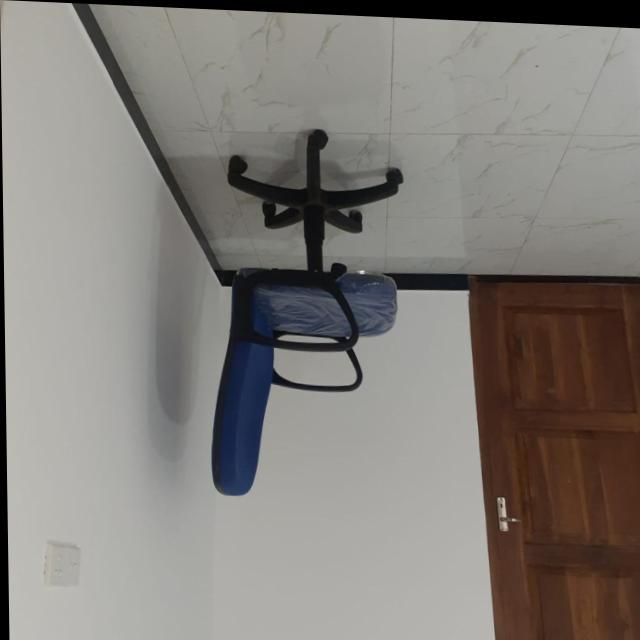Chair: (208, 138, 400, 500)
